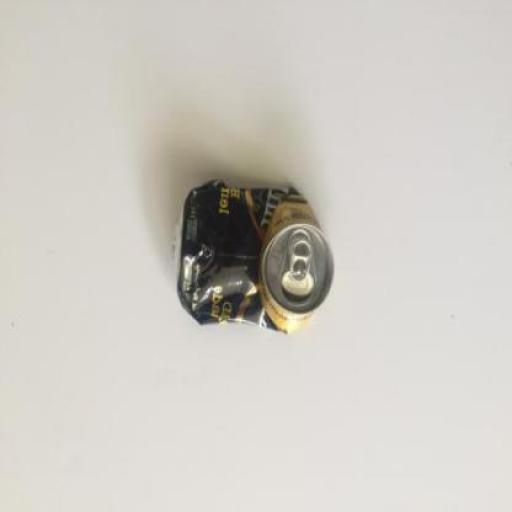metal: (174, 178, 336, 333)
